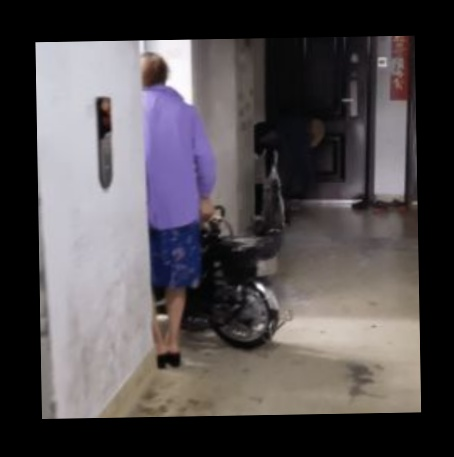ebike: (175, 205, 284, 346)
person: (139, 50, 219, 370)
